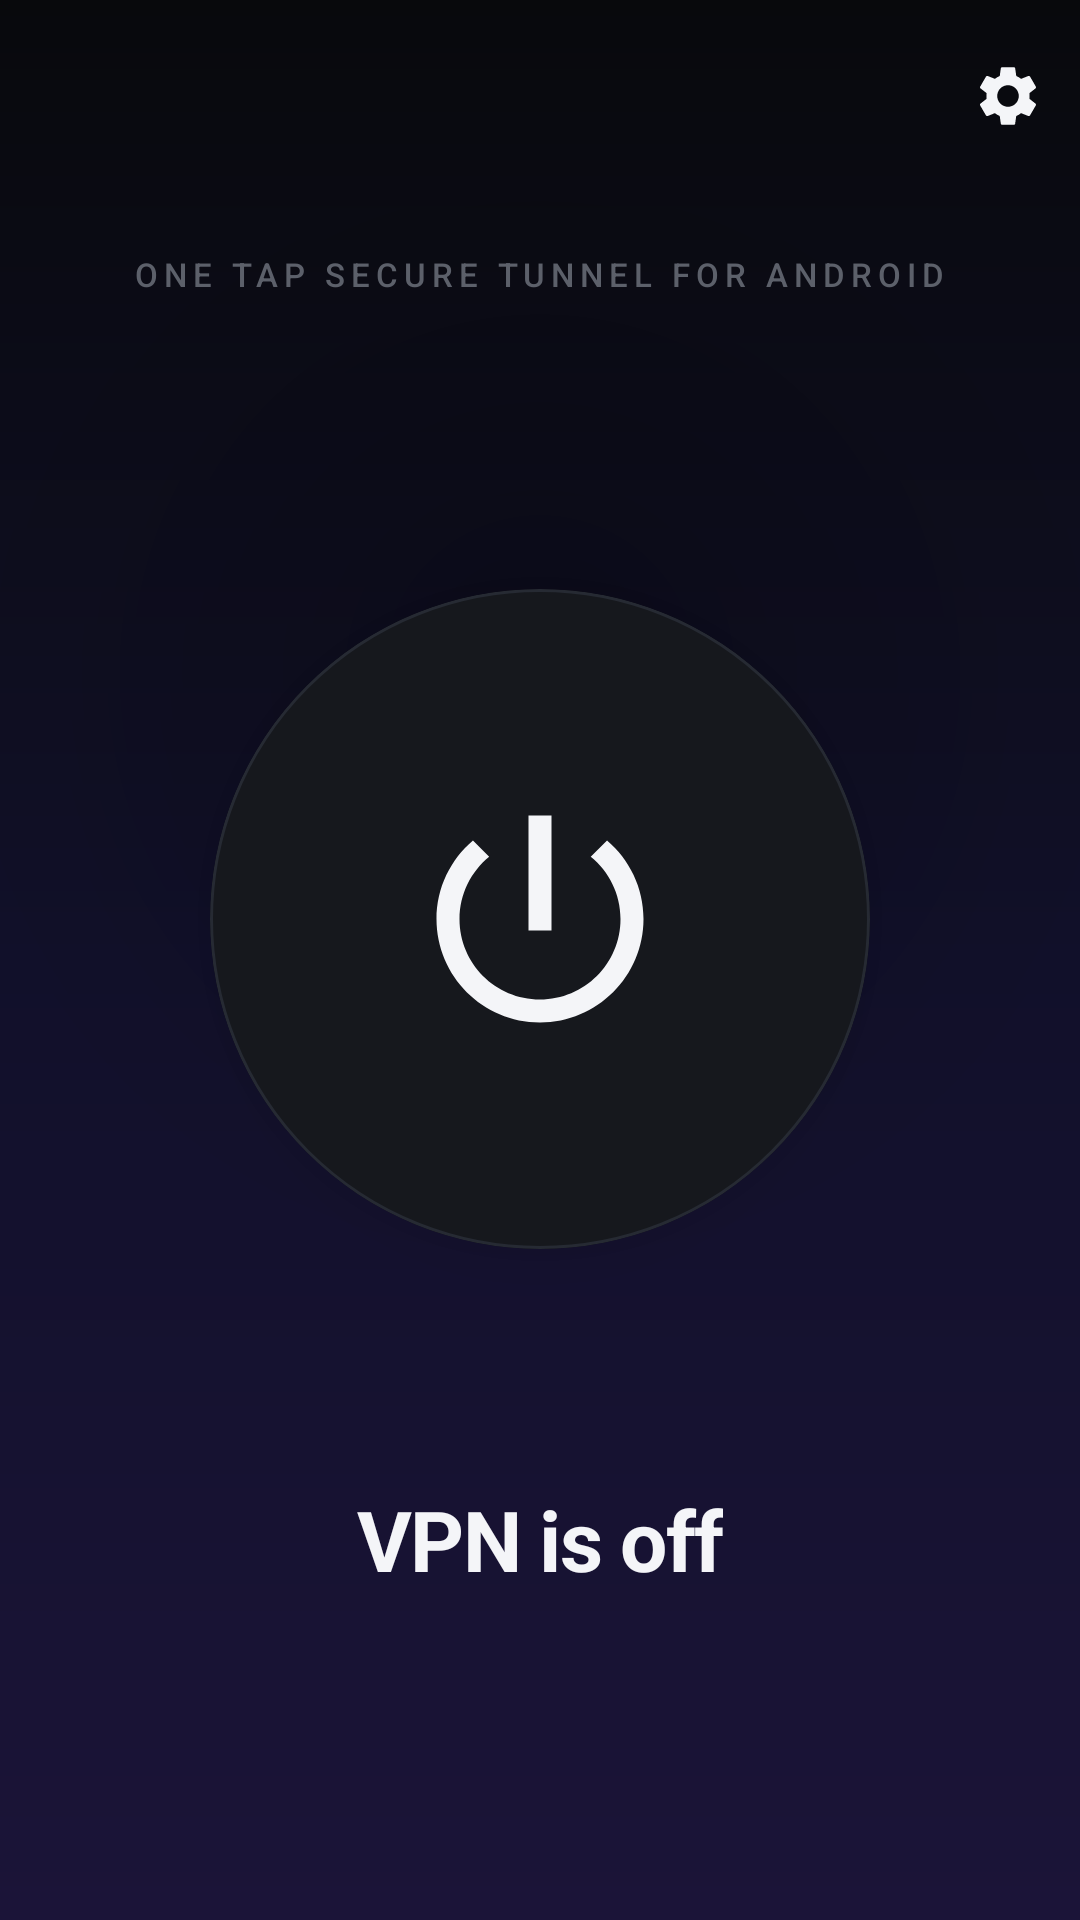

Icon bounding boxes for this 1080 x 1920 phone screenshot, format detection(x1, y1, x2, y2):
power: detection(436, 815, 644, 1023)
Settings: detection(980, 67, 1036, 125)
